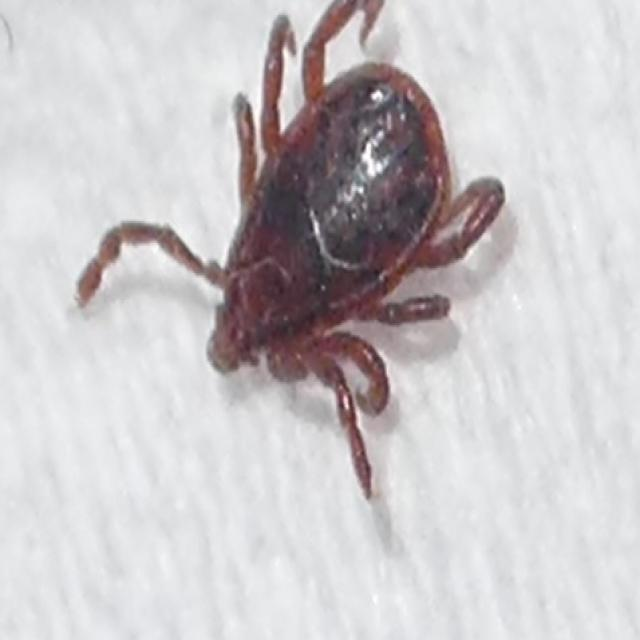Rhipicephalus Sanguineus-M: (74, 0, 507, 501)
